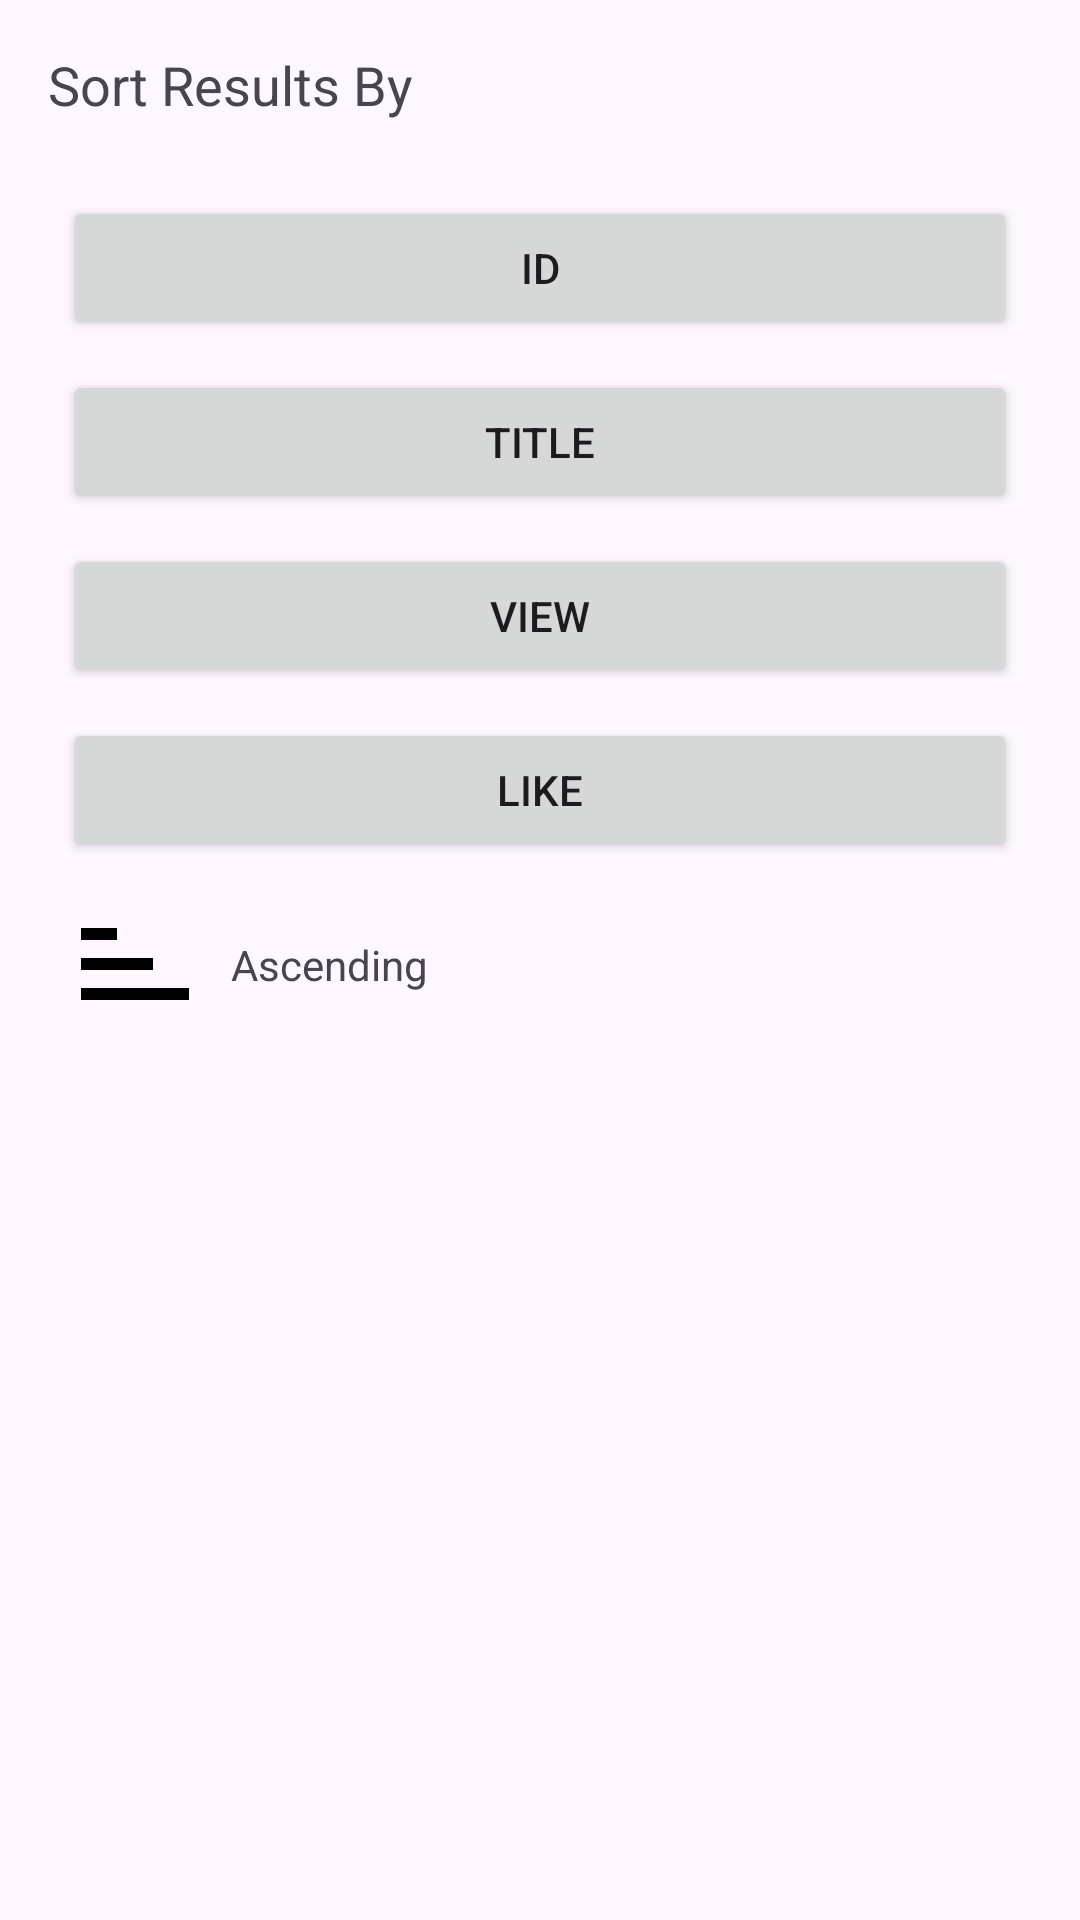

Screen size 1080w x 1920h. Icon name, then its center in pixels as [x,y]:
sort asc: [135,964]
